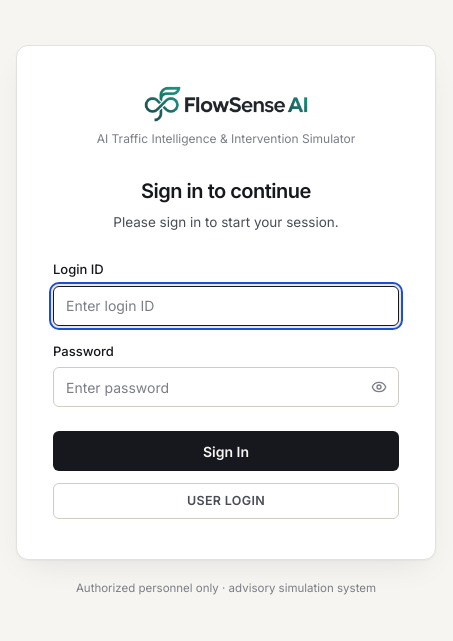
Test: login page › shows one generic error for wrong credentials and stays on /login
The image size is (453, 641).
Type "tgpolice" into the field labelled "Login ID" at (226, 306), box [53,286,399,326]
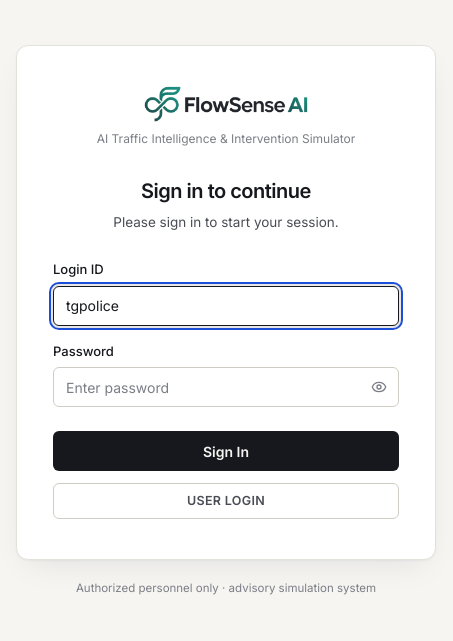
Type "wrong" into the password field labelled "Password" at (226, 387), box [53,367,399,407]
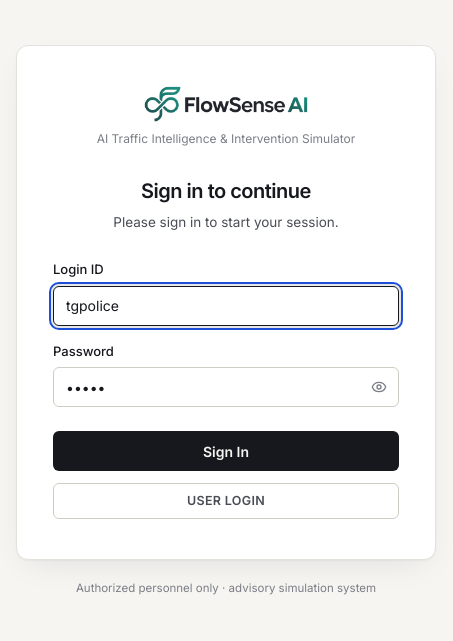
Click the button "Sign In" at (226, 451), box [53,431,399,471]
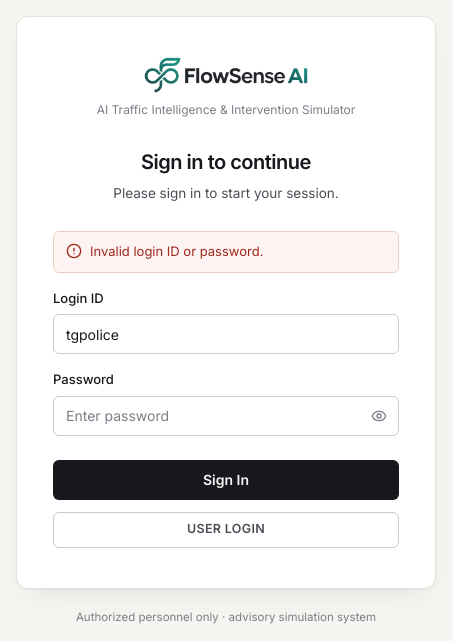
Expected: the message reads "Invalid login ID or password.", [90,243,263,259]
Expected: the password field labelled "Password" is empty, [53,396,399,436]
